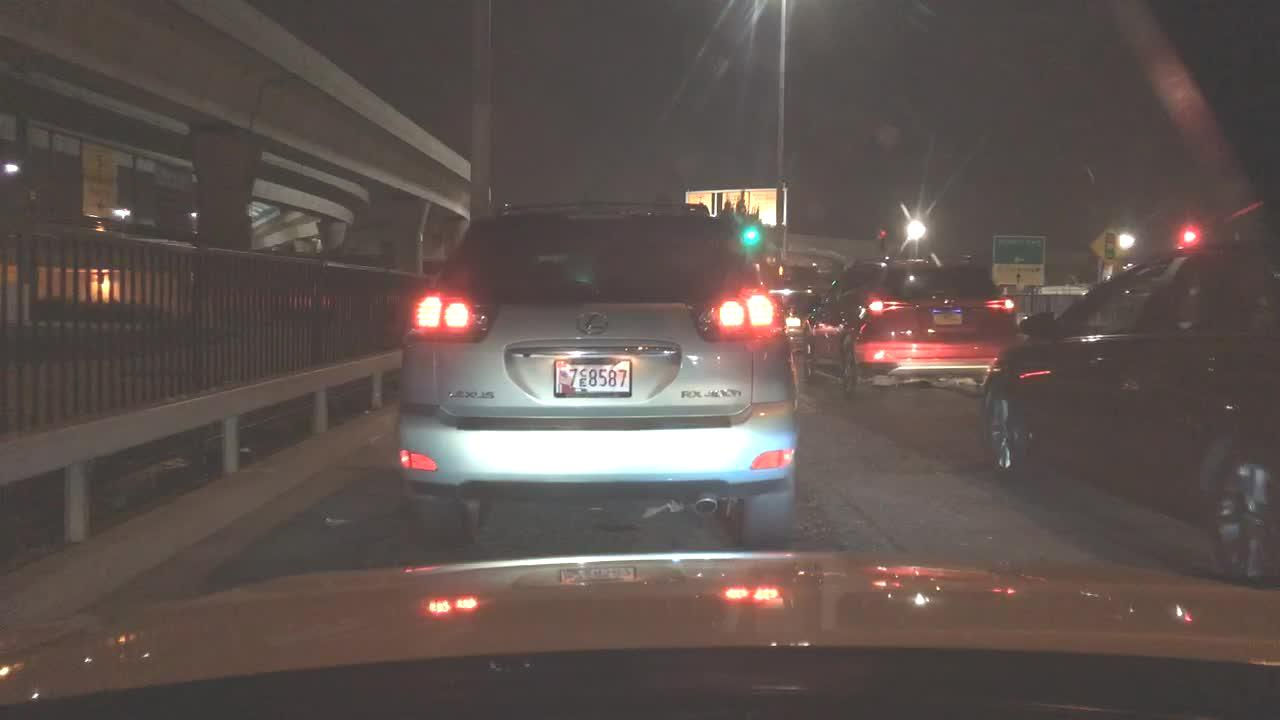lexus: (563, 302, 617, 345)
